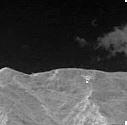Target: (82, 75, 93, 83)
